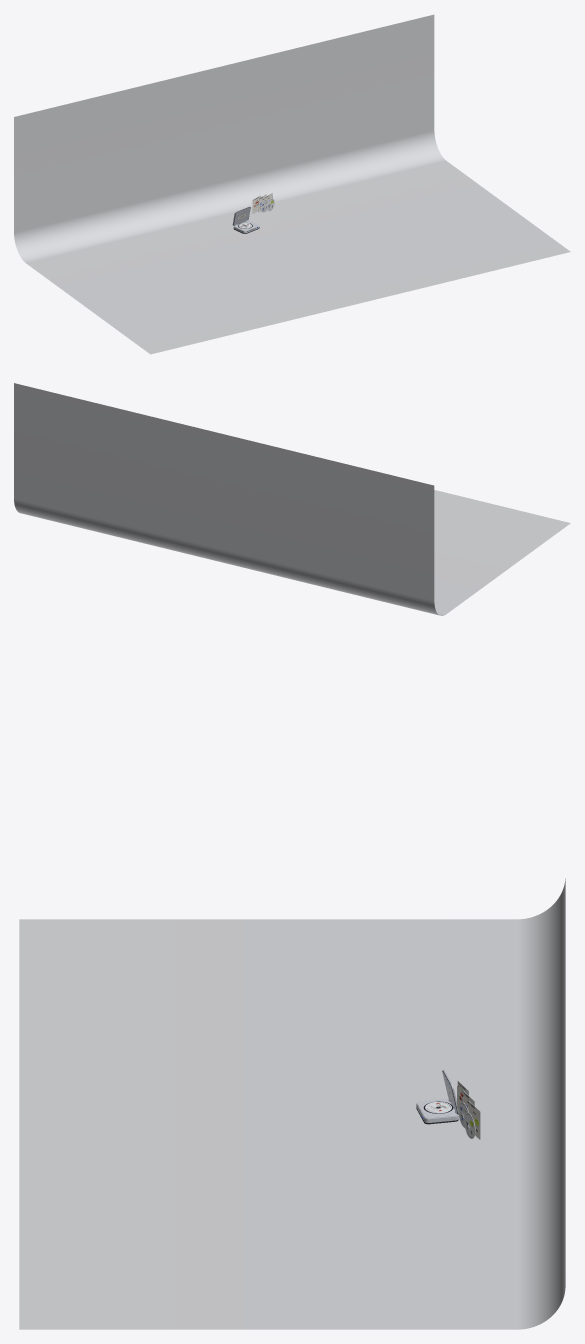
File: claire-v3.glb
The picture shows the model from 3 angles, top to bottom: view 1: azimuth 30°, elevation 25°; view 2: azimuth 150°, elevation 25°; view 3: azimuth 270°, elevation 25°; orthographic projection. The views are drawn at different scales.
Parts seen in each view (by area): view 1: Seamless infinite studio cove; view 2: Seamless infinite studio cove; view 3: Seamless infinite studio cove.
Boxes of the visible parts, left/top/right/bottom form: Seamless infinite studio cove: left=14, top=14, right=570, bottom=354; Seamless infinite studio cove: left=14, top=383, right=570, bottom=615; Seamless infinite studio cove: left=19, top=878, right=565, bottom=1329.
Bounding box in the file's own units: 80 × 25 × 45.
20 materials, 11 textured.
